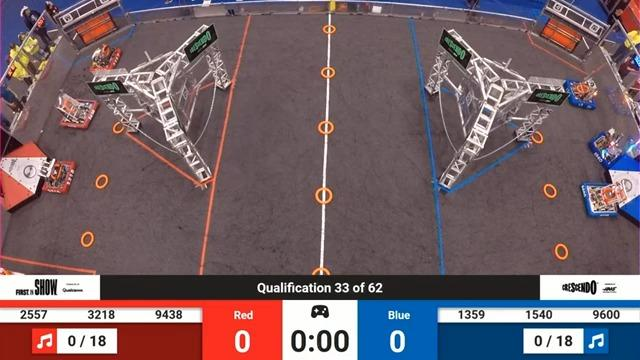robot: (56, 91, 99, 131), (579, 182, 620, 218), (588, 129, 623, 169), (37, 160, 77, 194), (564, 77, 597, 111), (89, 44, 123, 75)
